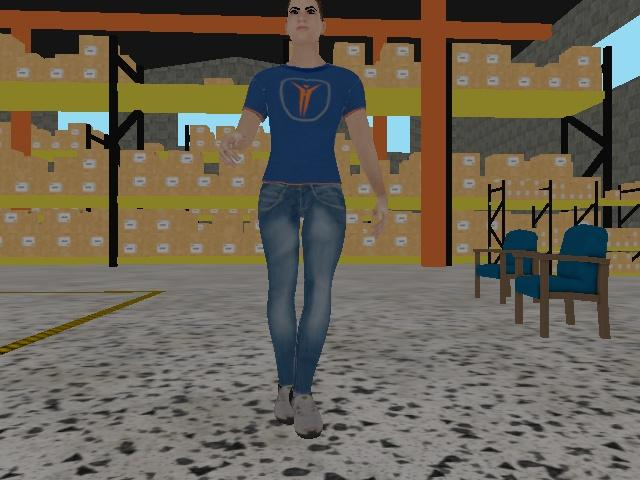chair: (512, 224, 611, 338), (472, 228, 542, 306)
person: (216, 0, 391, 439)
